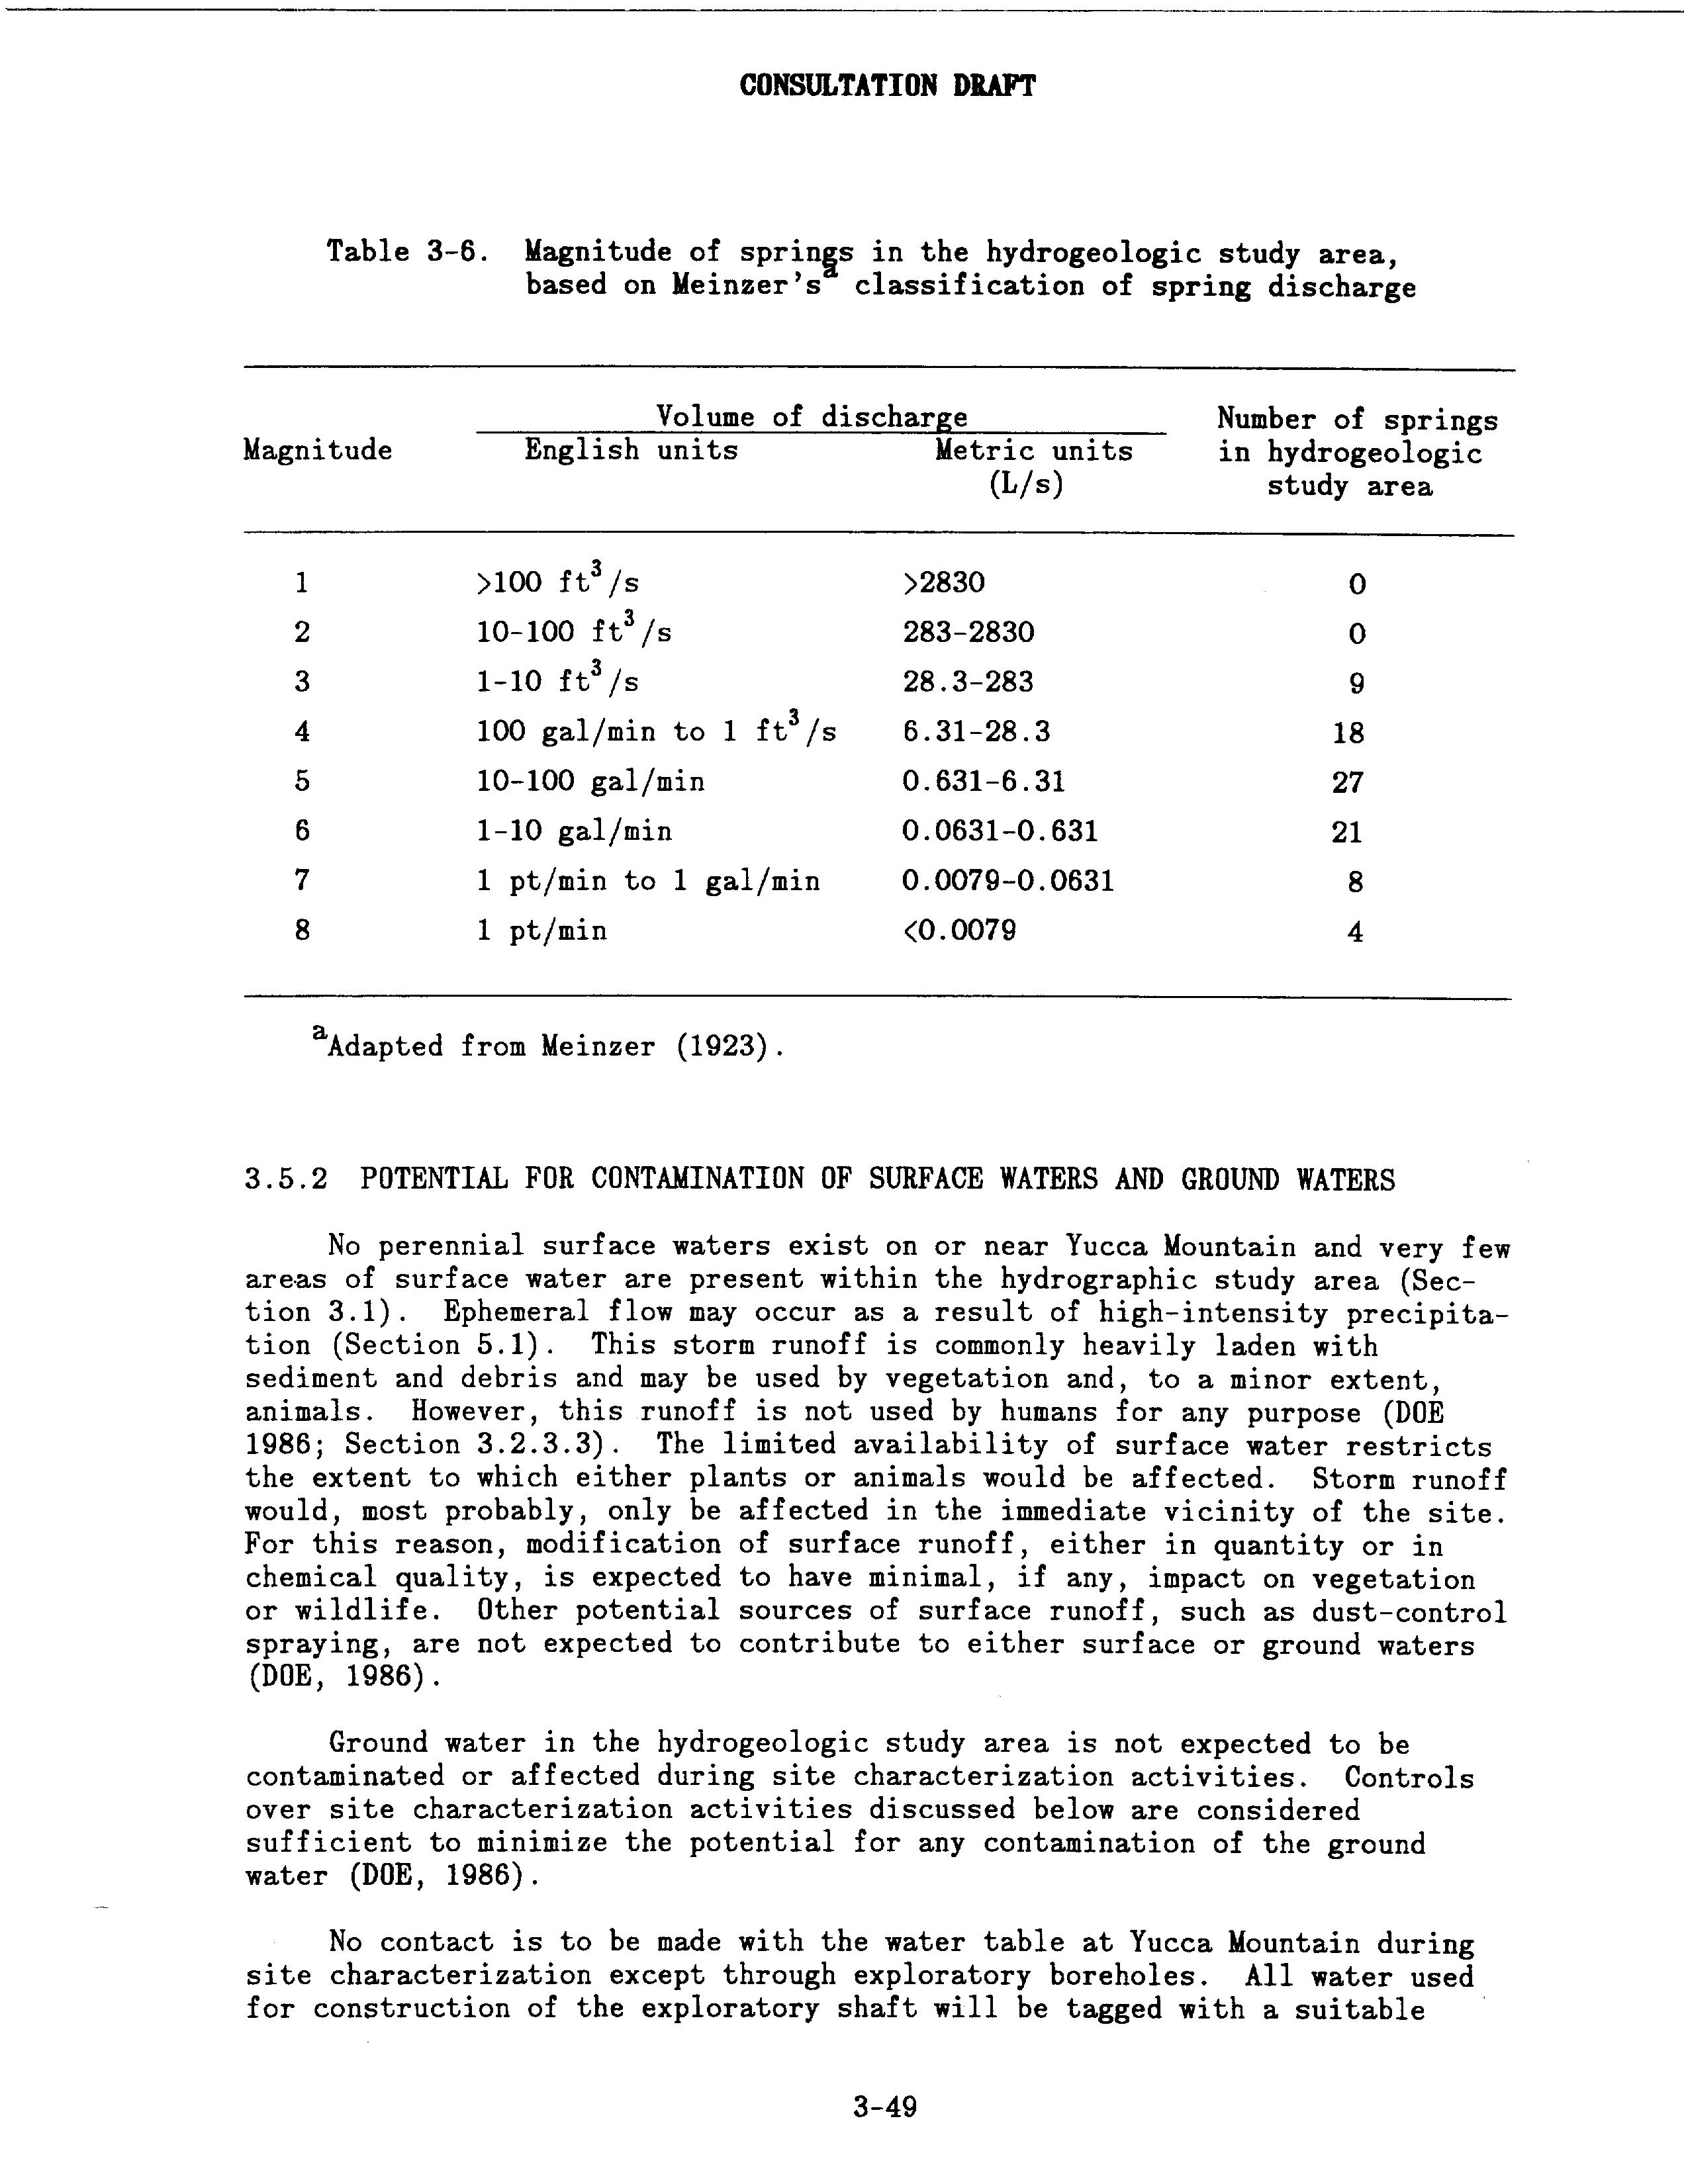boardless: (235, 230, 1511, 1079)
